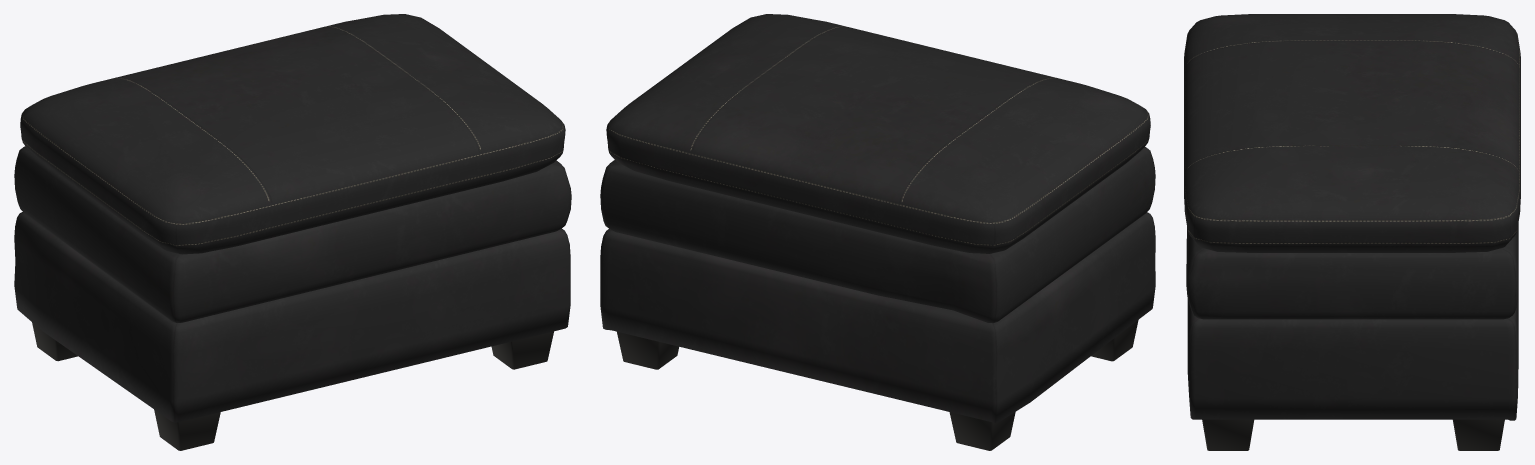
3 views of the same model, side by side, from view 1: azimuth 30°, elevation 25°; view 2: azimuth 150°, elevation 25°; view 3: azimuth 270°, elevation 25° (orthographic). The views are drawn at different scales.
Parts seen in each view (by area): view 1: final_low; view 2: final_low; view 3: final_low.
Part boxes in pixels (x1=…): final_low: x1=14, y1=14, x2=571, y2=450; final_low: x1=600, y1=14, x2=1155, y2=450; final_low: x1=1184, y1=14, x2=1520, y2=450.
Size of the model in its own units: 2.03 by 1.25 by 1.41.
Materials: 1 (1 with a texture image).
